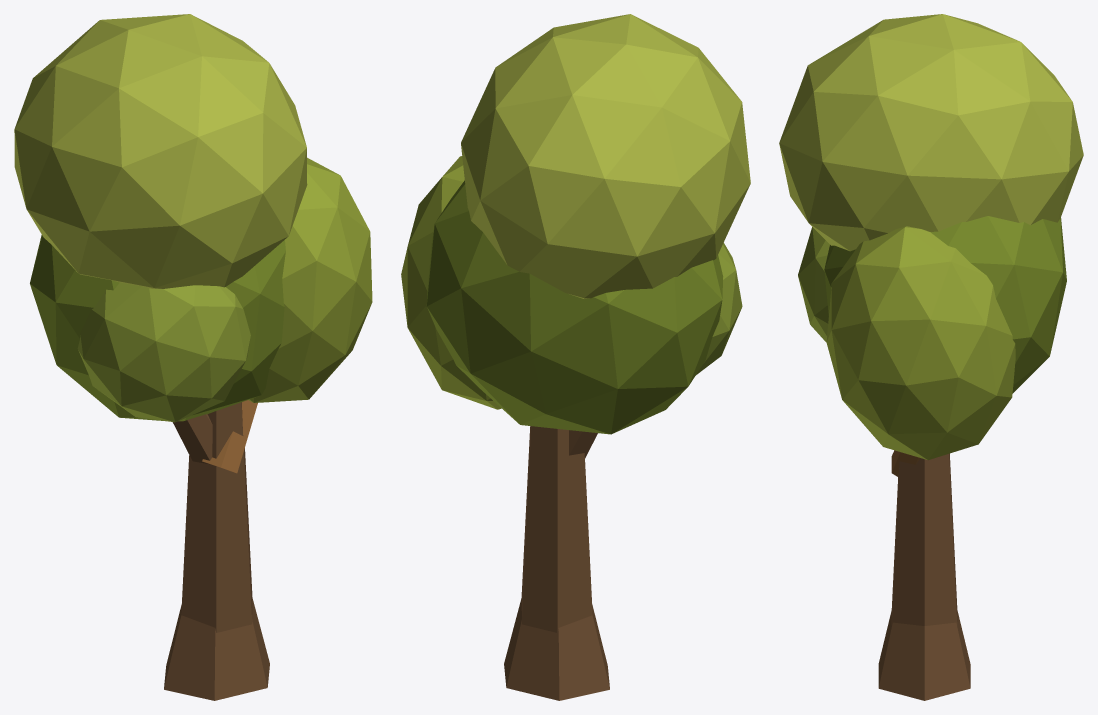
The model's file is tree-canopy-8.gltf.
3 renders of one model, left to right at view 1: azimuth 30°, elevation 25°; view 2: azimuth 150°, elevation 25°; view 3: azimuth 270°, elevation 25°, orthographic. The views are drawn at different scales.
Visible parts, largest first — view 1: tree-canopy-8; view 2: tree-canopy-8; view 3: tree-canopy-8.
Boxes of the visible parts, bbox=[...] form: tree-canopy-8: bbox=[14, 14, 372, 700]; tree-canopy-8: bbox=[401, 14, 750, 700]; tree-canopy-8: bbox=[779, 14, 1083, 700].
Size of the model in its own units: 0.9507 by 1.9 by 0.8367.
